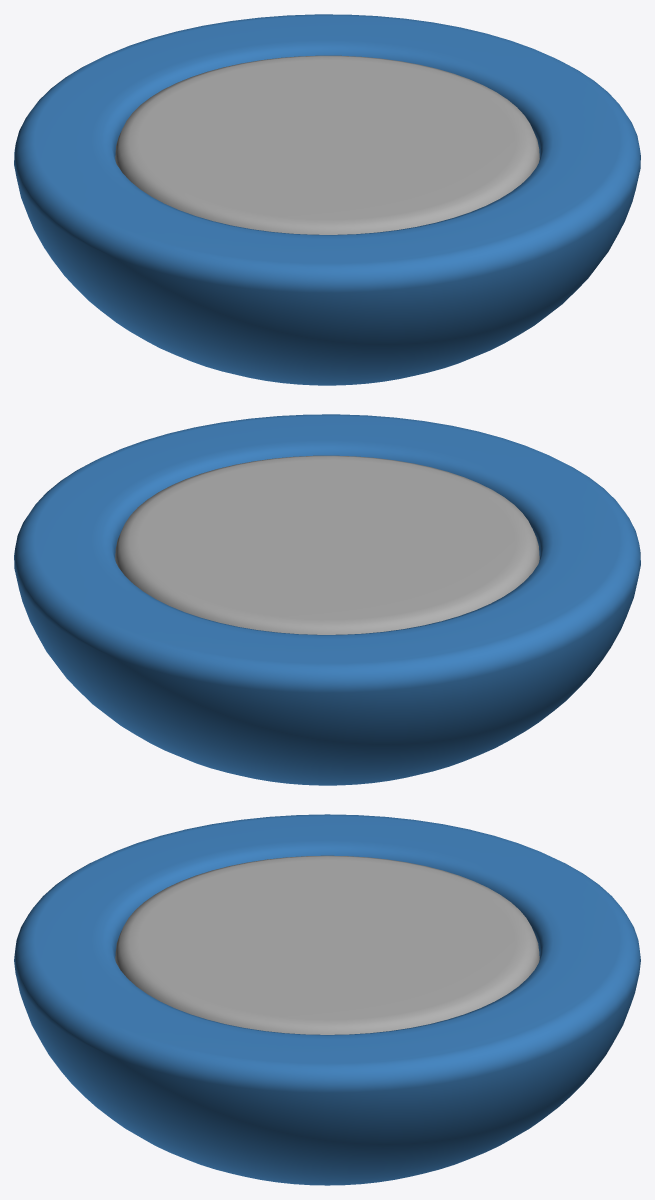
The model's file is PuntPlayerBase.fbx.
3 views of the same model, one above another, from view 1: azimuth 30°, elevation 25°; view 2: azimuth 150°, elevation 25°; view 3: azimuth 270°, elevation 25° (orthographic).
Parts seen in each view (by area): view 1: PuntBase; view 2: PuntBase; view 3: PuntBase.
Part boxes in pixels (x1,y1,x2,y2): PuntBase: [14, 14, 640, 385]; PuntBase: [14, 414, 640, 785]; PuntBase: [14, 814, 640, 1185].
Bounding box in the file's own units: 58.93 × 21.36 × 58.93.
